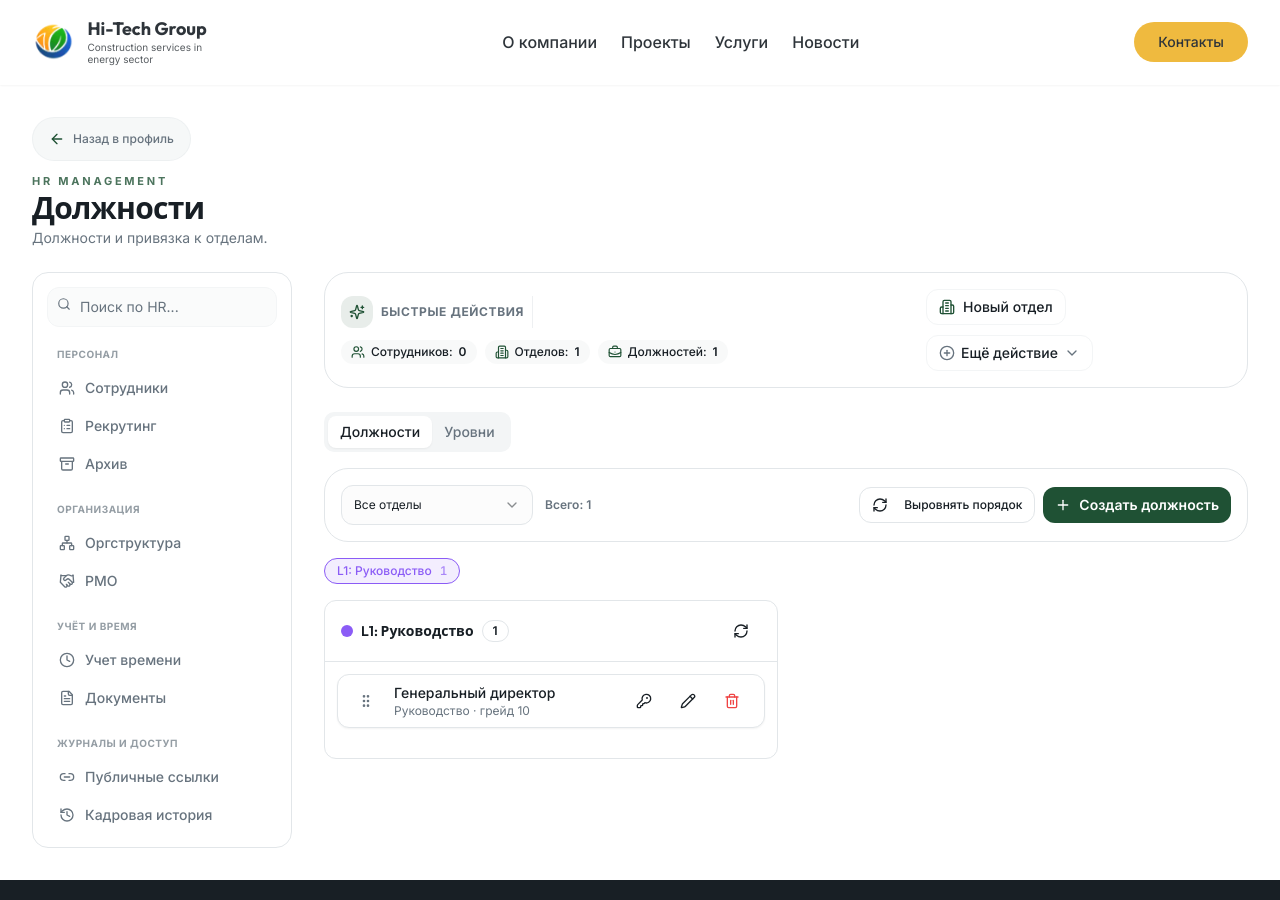
Test: HRPositions — внешняя иерархия › подпись объясняет, что это подчинение, а не передача прав
The width and height of the screenshot is (1280, 900).
Click the button titled "Редактировать".
click(688, 700)  # box [668,682,708,718]
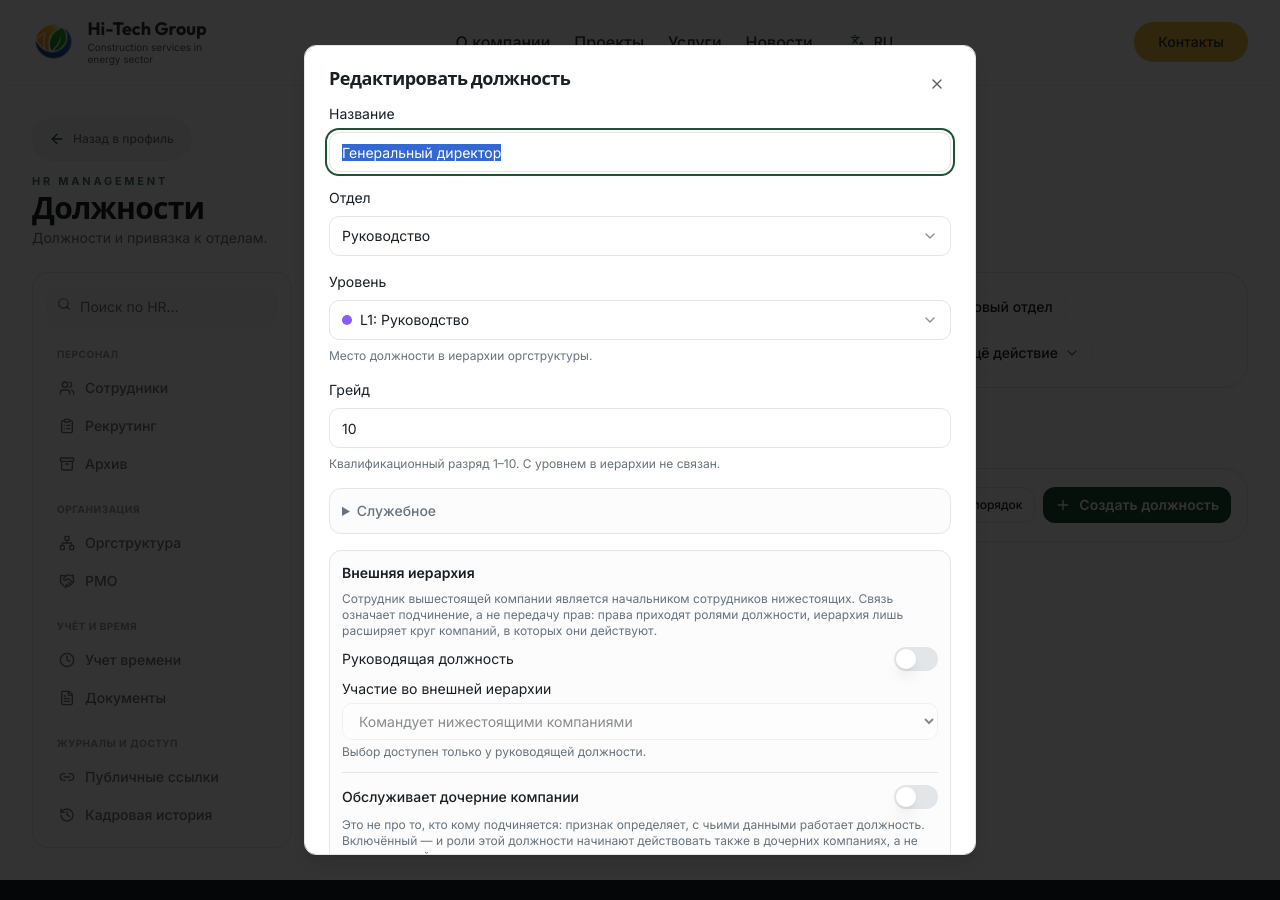
Now the text "подчинение, а не передач" is shown, box [342,591,903,638]
